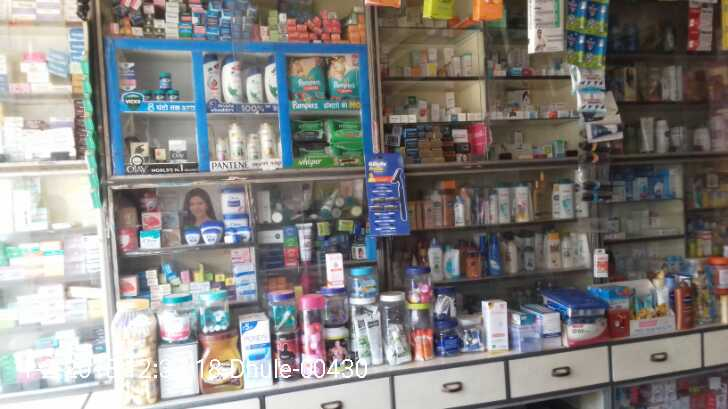vicks: (119, 56, 183, 103)
